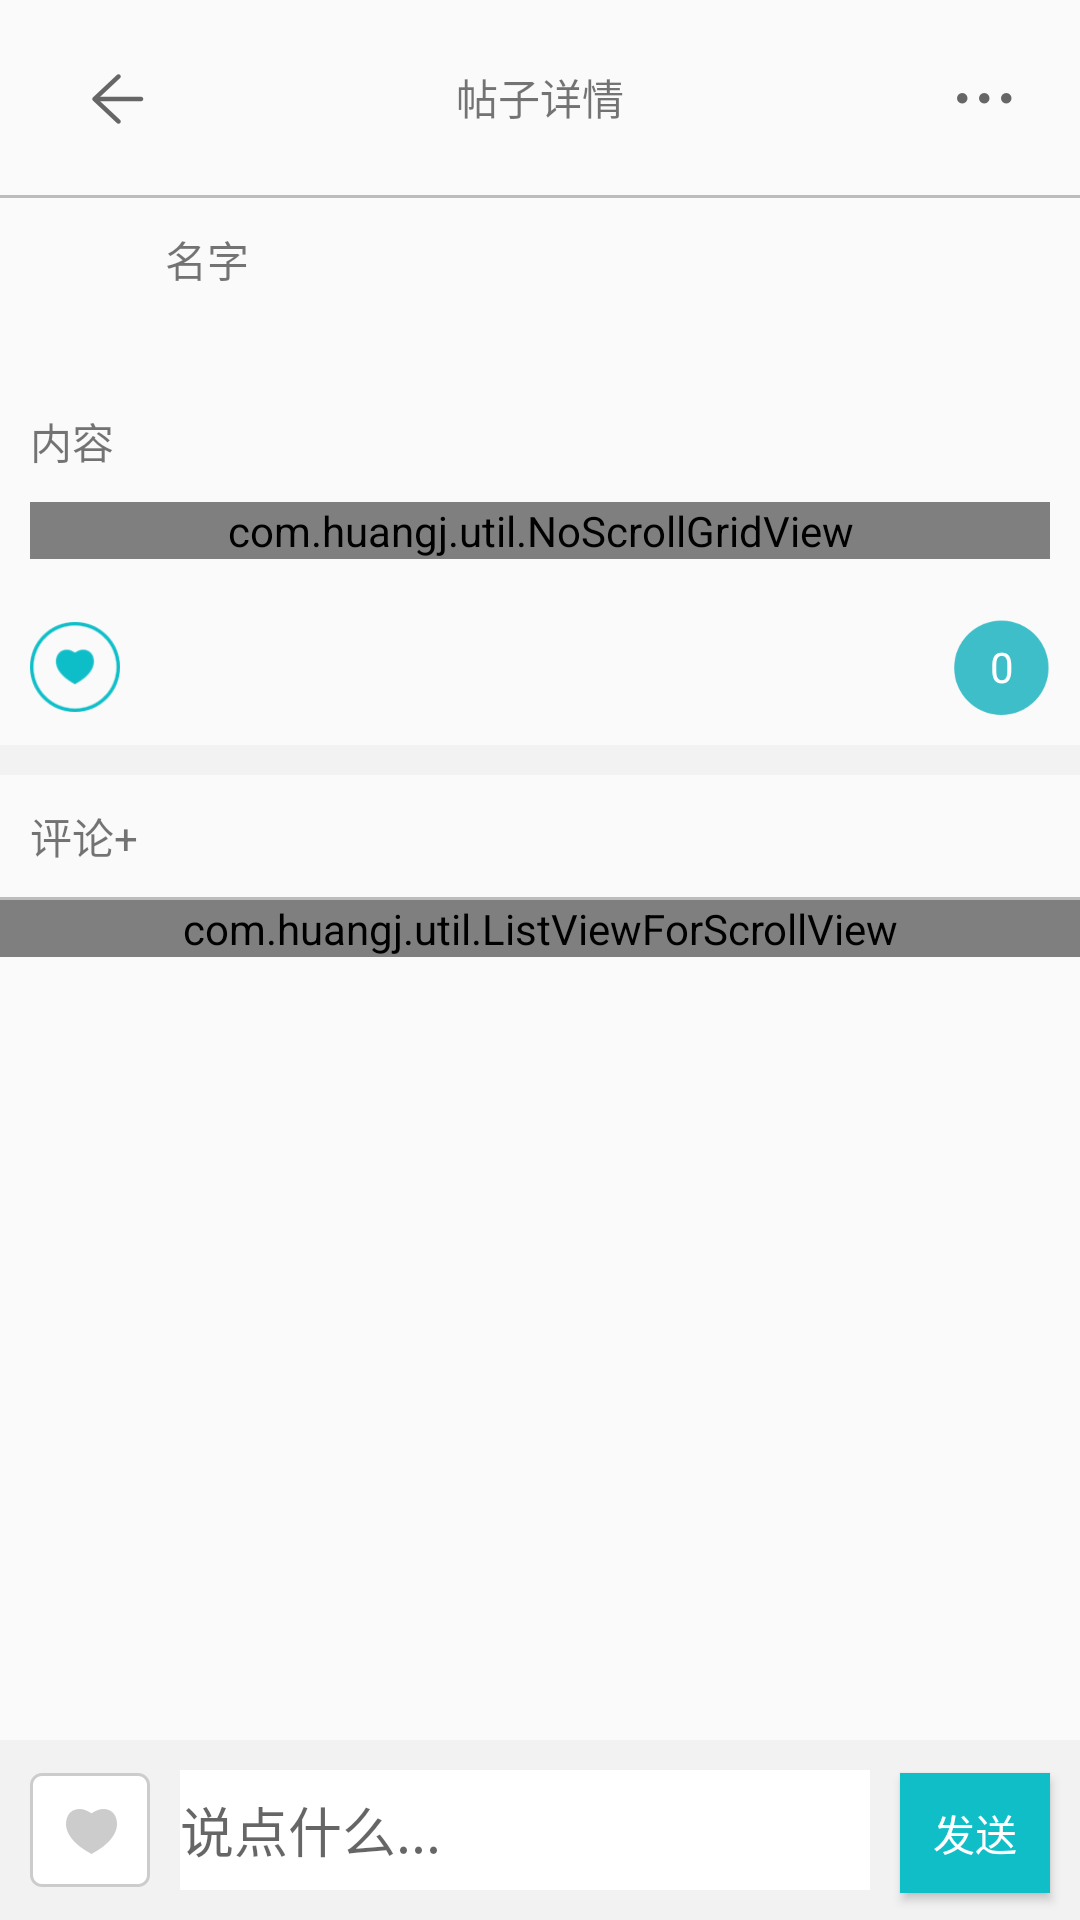

Icons on this 1080 × 1920 Android screen, each with its box as (x1, y1, x2, y2):
feed detail like: (30, 622, 120, 712)
like: (30, 1773, 150, 1887)
mine more: (957, 93, 1012, 104)
title back: (92, 74, 143, 124)
